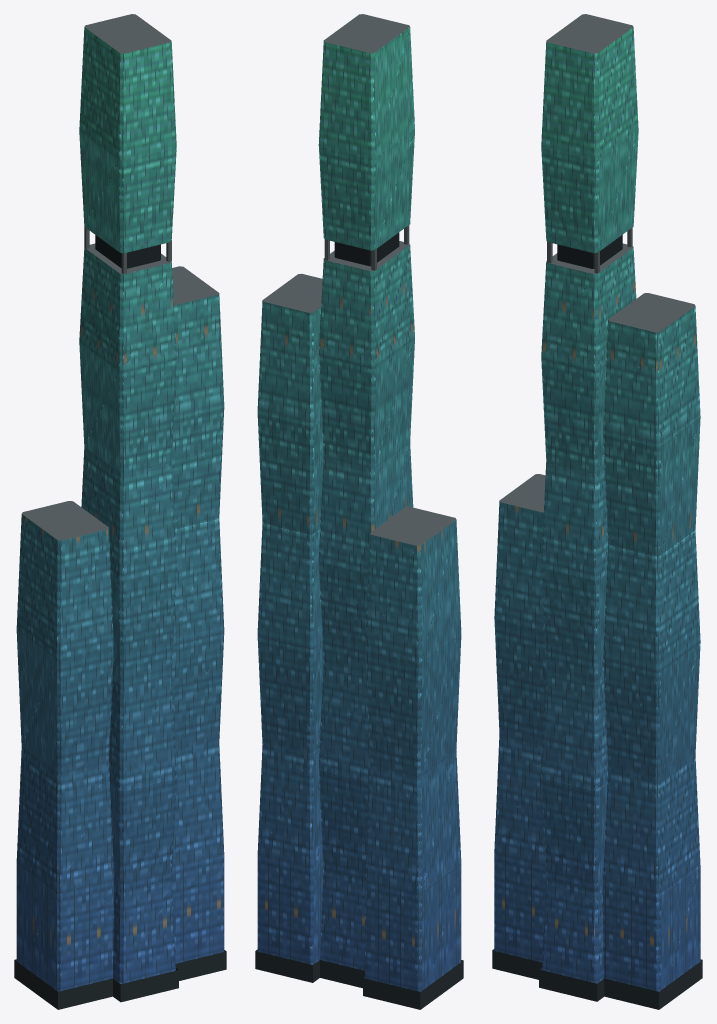
Rendered from st_regis.glb.
3 renders of one model, left to right at view 1: azimuth 30°, elevation 25°; view 2: azimuth 150°, elevation 25°; view 3: azimuth 330°, elevation 25°, orthographic.
Parts seen in each view (by area): view 1: st_regis; view 2: st_regis; view 3: st_regis.
Boxes of the visible parts, bbox=[...] form: st_regis: bbox=[14, 14, 226, 1009]; st_regis: bbox=[255, 14, 463, 1009]; st_regis: bbox=[492, 14, 702, 1009].
Size of the model in its own units: 67.4 by 363 by 35.9.
2 materials, 2 textured.
